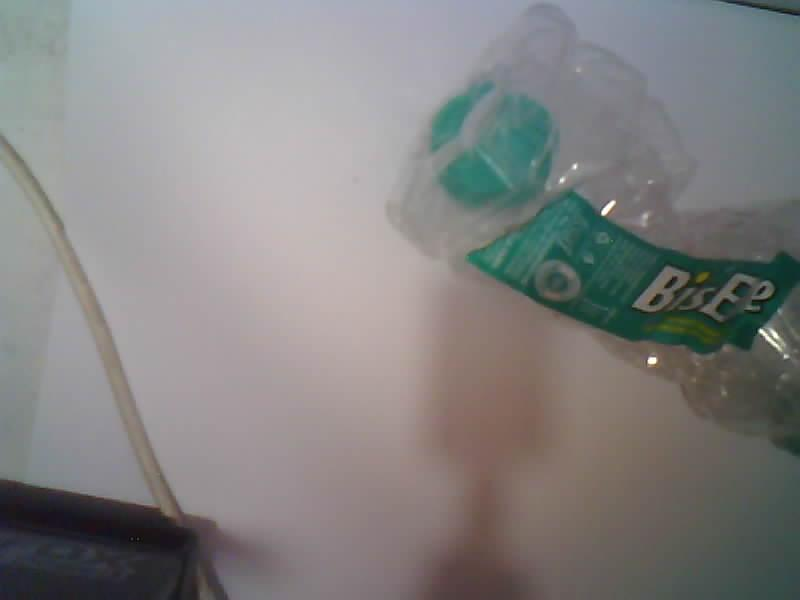non-biodegradable: (388, 4, 799, 454)
